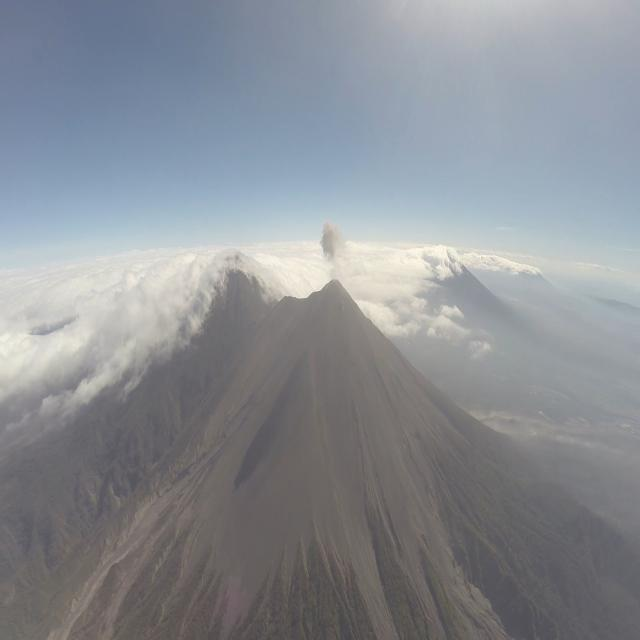Plume: (320, 220, 344, 270)
Summit: (308, 278, 359, 310)
